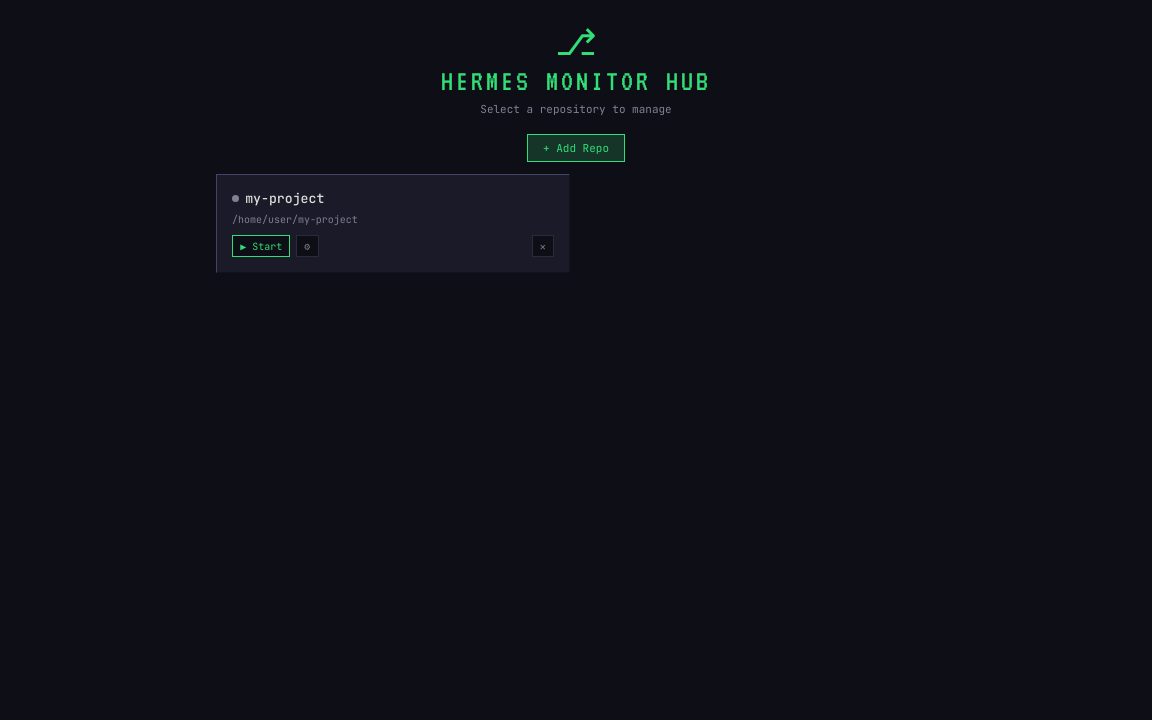
Test: HubLanding › shows error when DELETE fails
Click the button titled "Remove": {"x": 543, "y": 246} [532,235,554,257]
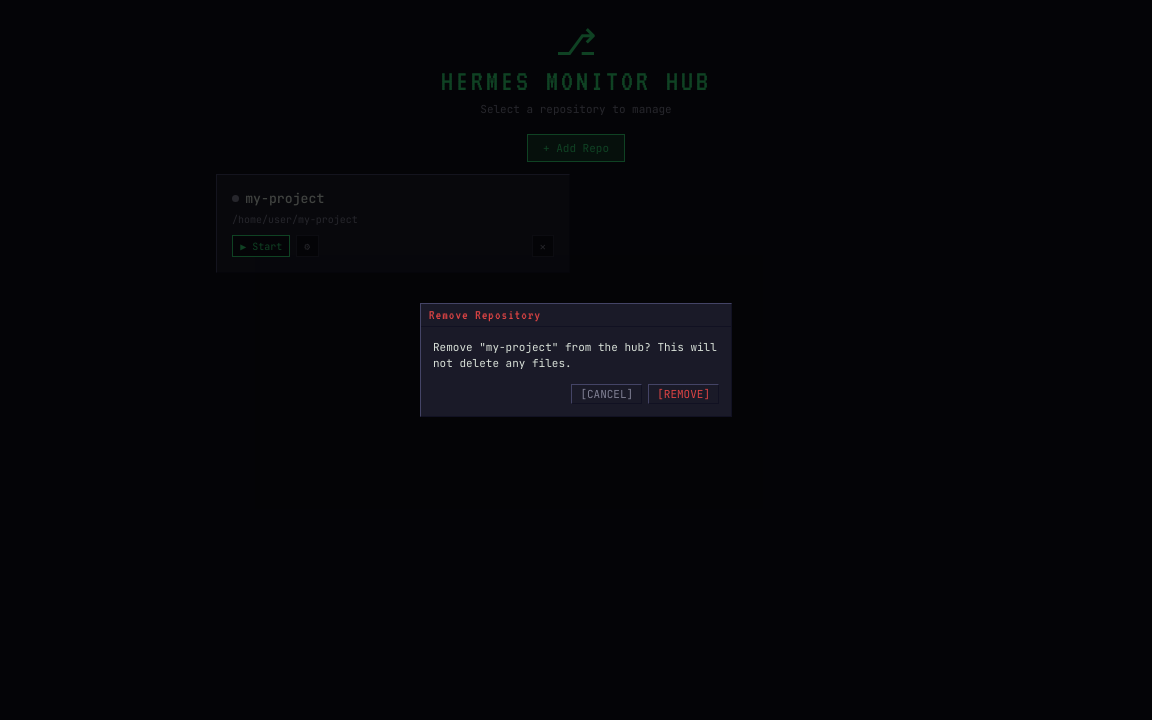
Expected: the button "[REMOVE]" is shown
Click the button "[REMOVE]": {"x": 684, "y": 394} [648,384,719,404]
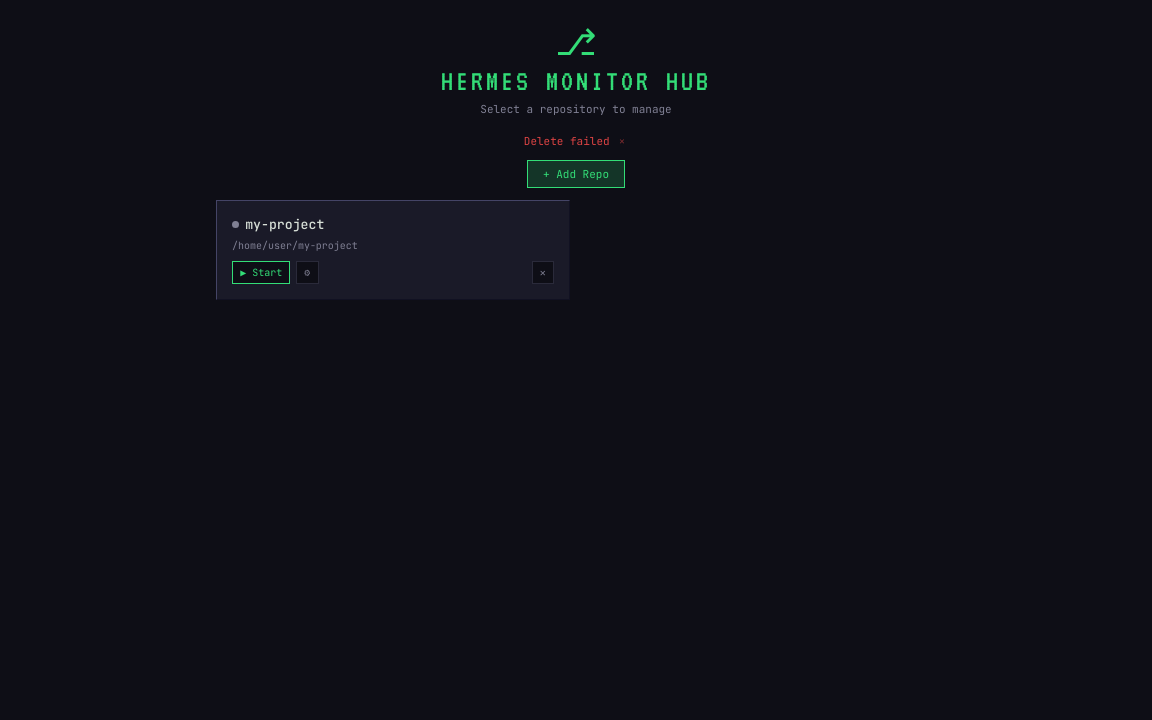
Expected: the text "Delete failed" is shown, [524,134,610,148]
